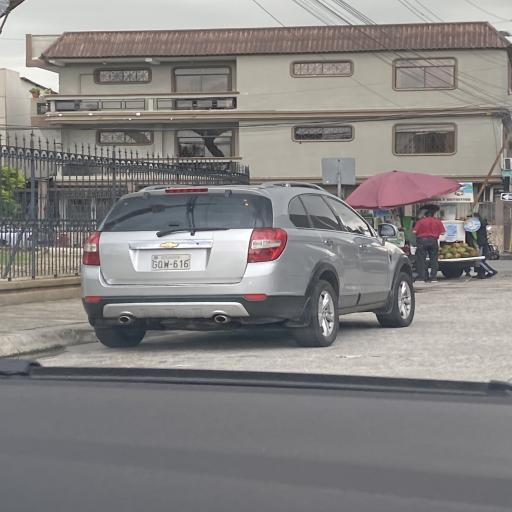license_plate: (151, 255, 190, 270)
